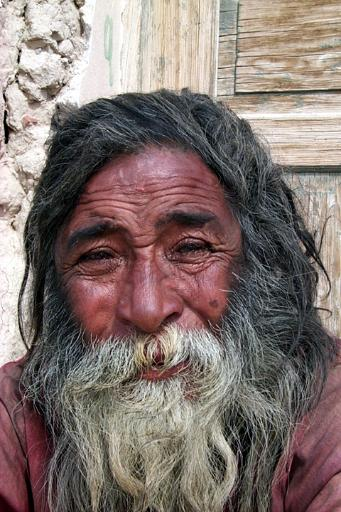left_eye: (168, 236, 214, 257)
right_eye: (77, 245, 124, 265)
